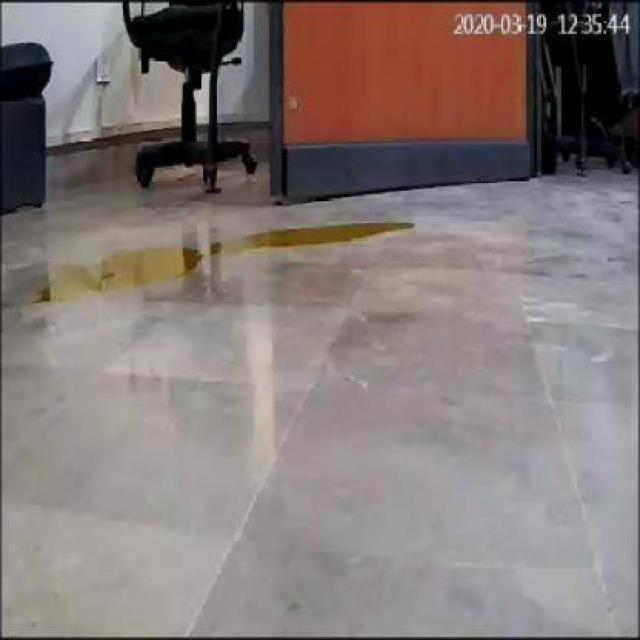spillage: (47, 249, 199, 302), (222, 223, 414, 256)
